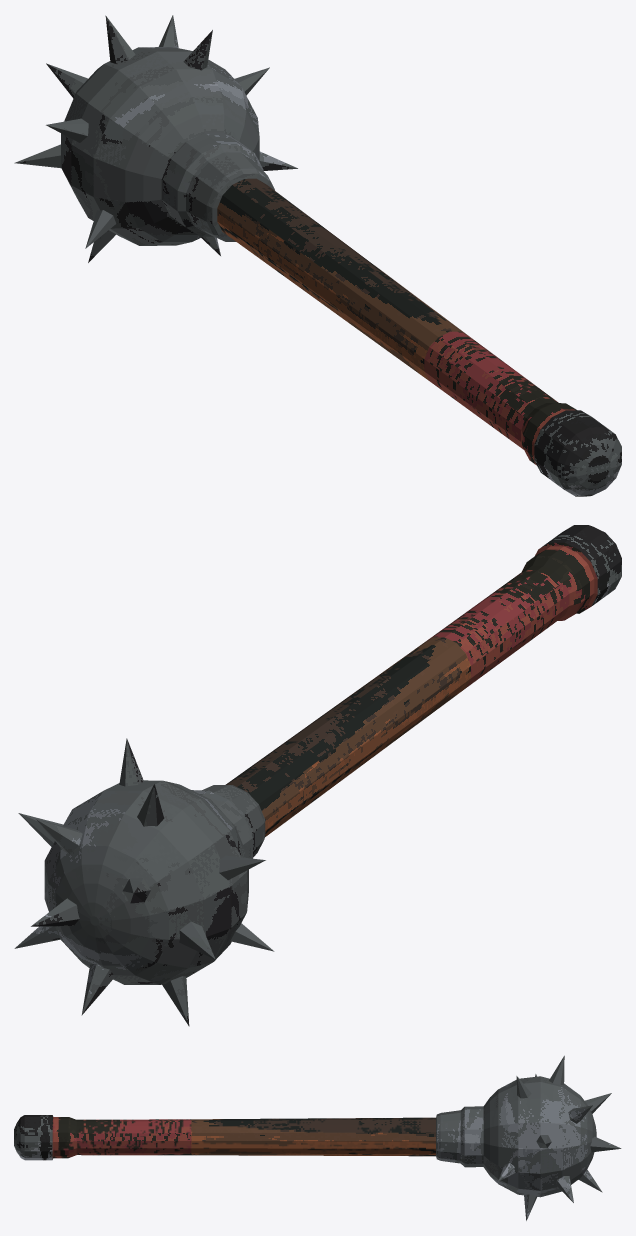
Rendered from club.glb.
The picture shows the model from 3 angles, top to bottom: view 1: azimuth 30°, elevation 25°; view 2: azimuth 150°, elevation 25°; view 3: azimuth 270°, elevation 25°; orthographic projection. The views are drawn at different scales.
Parts seen in each view (by area): view 1: head, haft, grip, butt; view 2: head, haft, grip, butt; view 3: head, haft, grip, butt.
Boxes of the visible parts, x1,y1,x2,y2 form: head: (14,15,297,262); haft: (217,178,468,380); grip: (424,331,576,465); butt: (534,410,621,496); head: (14,738,274,1026); haft: (225,637,470,836); grip: (425,542,597,687); butt: (539,525,621,606); head: (436,1055,621,1220); haft: (191,1117,435,1156); grip: (52,1115,191,1159); butt: (14,1115,52,1160).
Bounding box in the file's own units: 0.1876 × 0.1836 × 0.7116.
2 materials, 2 textured.
